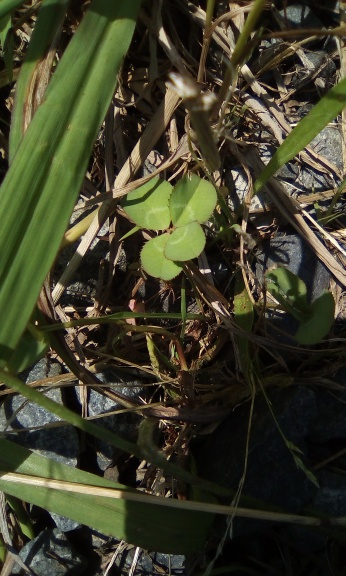4leaf: (123, 174, 218, 281)
